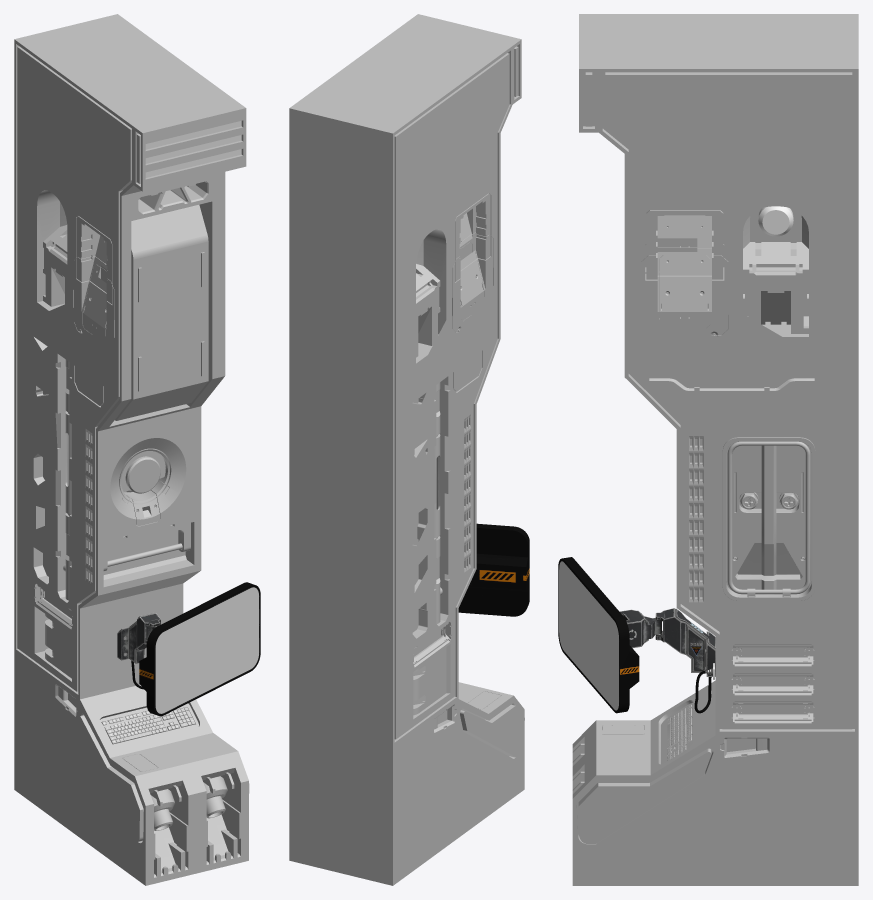
File: Sci Fi Wall bridge with Monitor.fbx
3 views of the same model, side by side, from view 1: azimuth 30°, elevation 25°; view 2: azimuth 150°, elevation 25°; view 3: azimuth 270°, elevation 25° (orthographic). The views are drawn at different scales.
Parts seen in each view (by area): view 1: Sci Fi Wall bridge, Monitor; view 2: Sci Fi Wall bridge, Monitor; view 3: Sci Fi Wall bridge, Monitor.
Part boxes in pixels (box(x1,y1,x2,y2)): Sci Fi Wall bridge: box(14, 14, 249, 885); Monitor: box(117, 582, 260, 716); Sci Fi Wall bridge: box(289, 14, 524, 885); Monitor: box(458, 523, 529, 616); Sci Fi Wall bridge: box(572, 14, 858, 885); Monitor: box(558, 557, 715, 713).
Size of the model in its own units: 94.38 by 481 by 160.
